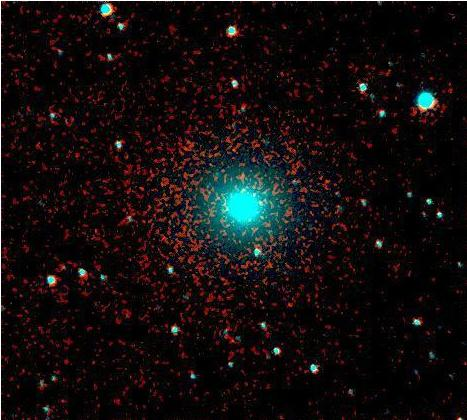star: (292, 241, 322, 271)
